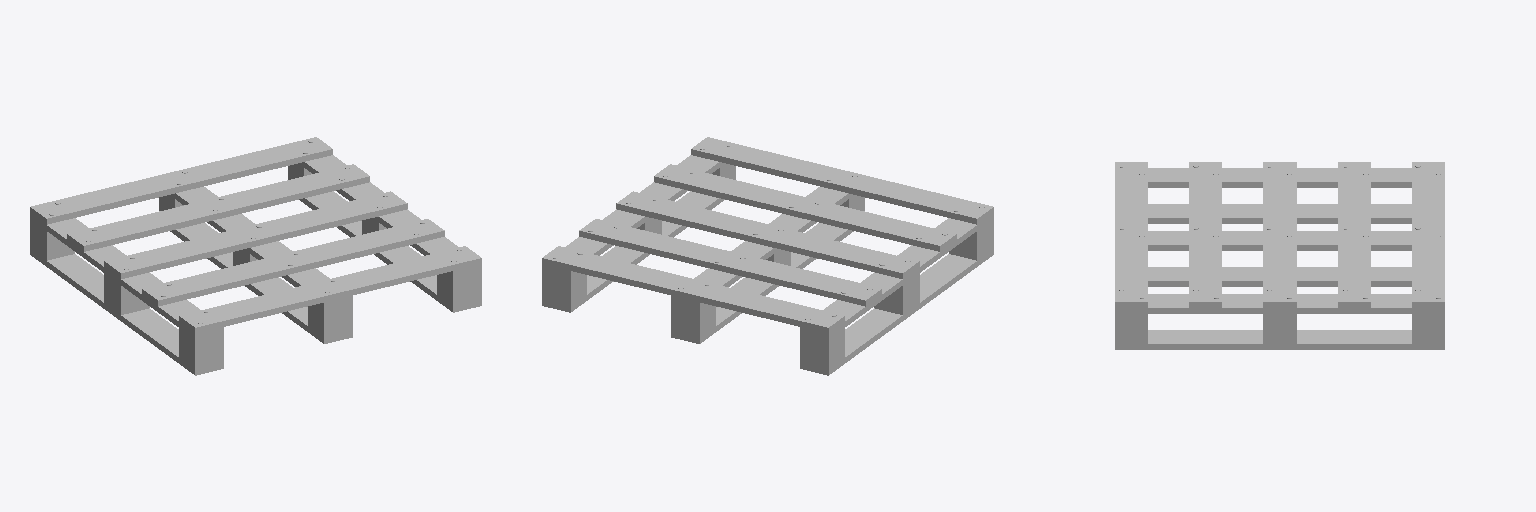
File: _allete.obj
3 views of the same model, side by side, from view 1: azimuth 30°, elevation 25°; view 2: azimuth 150°, elevation 25°; view 3: azimuth 270°, elevation 25° (orthographic).
Visible parts, largest first — view 1: Tabua_superior.001_Cubo.027, Tabua_superior.002_Cubo.028, Tabua_superior.003_Cubo.029, Tabua_superior.004_Cubo.030, Tabua_superior_Cubo.019, Tabuacimadireita.001_Cubo.026, Tabuacimadireita_Cubo.025, Tabuacimaesquerda_Cubo.013, Tabuacimacentro_Cubo.023, Tabua.001_Cubo.022, Tabua.002_Cubo.024, Toco.004_Cubo.011 (+4 smaller); view 2: Tabua_superior.001_Cubo.027, Tabua_superior.003_Cubo.029, Tabua_superior.004_Cubo.030, Tabua_superior.002_Cubo.028, Tabua_superior_Cubo.019, Tabuacimadireita.001_Cubo.026, Tabuacimadireita_Cubo.025, Tabuacimaesquerda_Cubo.013, Tabuacimacentro_Cubo.023, Tabua.001_Cubo.022, Tabua.002_Cubo.024, Toco.005_Cubo.012 (+4 smaller); view 3: Tabua.001_Cubo.022, Tabua_superior.001_Cubo.027, Tabua_superior.002_Cubo.028, Tabua_superior.003_Cubo.029, Tabua_superior_Cubo.019, Tabua_superior.004_Cubo.030, Tabuacimaesquerda_Cubo.013, Tabuacimadireita_Cubo.025, Tabuacimadireita.001_Cubo.026, Tabuacimacentro_Cubo.023, Tabua.002_Cubo.024, Toco.006_Cubo.015 (+2 smaller).
Part boxes in pixels (x1,y1,x2,y2): Tabua_superior.001_Cubo.027: (104,191,407,278); Tabua_superior.002_Cubo.028: (179,246,481,333); Tabua_superior.003_Cubo.029: (67,164,369,251); Tabua_superior.004_Cubo.030: (142,219,444,306); Tabua_superior_Cubo.019: (30,137,332,224); Tabuacimadireita.001_Cubo.026: (30,249,223,375); Tabuacimadireita_Cubo.025: (30,213,223,339); Tabuacimaesquerda_Cubo.013: (298,155,481,276); Tabuacimacentro_Cubo.023: (170,187,352,307); Tabua.001_Cubo.022: (299,191,481,312); Tabua.002_Cubo.024: (170,223,352,343); Toco.004_Cubo.011: (179,328,223,369); Tabua_superior.001_Cubo.027: (616,191,919,278); Tabua_superior.003_Cubo.029: (579,219,881,306); Tabua_superior.004_Cubo.030: (654,164,956,251); Tabua_superior.002_Cubo.028: (691,137,993,224); Tabua_superior_Cubo.019: (542,246,844,333); Tabuacimadireita.001_Cubo.026: (800,249,993,375); Tabuacimadireita_Cubo.025: (800,213,993,339); Tabuacimaesquerda_Cubo.013: (542,155,725,276); Tabuacimacentro_Cubo.023: (671,187,853,307); Tabua.001_Cubo.022: (542,191,724,312); Tabua.002_Cubo.024: (671,223,853,343); Toco.005_Cubo.012: (800,328,844,369); Tabua.001_Cubo.022: (1115,330,1444,349); Tabua_superior.001_Cubo.027: (1263,162,1296,307); Tabua_superior.002_Cubo.028: (1115,162,1147,307); Tabua_superior.003_Cubo.029: (1338,162,1370,307); Tabua_superior_Cubo.019: (1412,162,1444,307); Tabua_superior.004_Cubo.030: (1189,162,1221,307); Tabuacimaesquerda_Cubo.013: (1115,294,1444,313); Tabuacimadireita_Cubo.025: (1148,168,1411,187); Tabuacimadireita.001_Cubo.026: (1148,204,1411,223); Tabuacimacentro_Cubo.023: (1148,231,1411,250); Tabua.002_Cubo.024: (1148,267,1411,286); Toco.006_Cubo.015: (1263,314,1296,343).
Size of the model in its own units: 20 by 3.25 by 20.